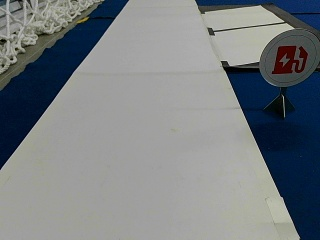battery: (258, 28, 317, 88)
